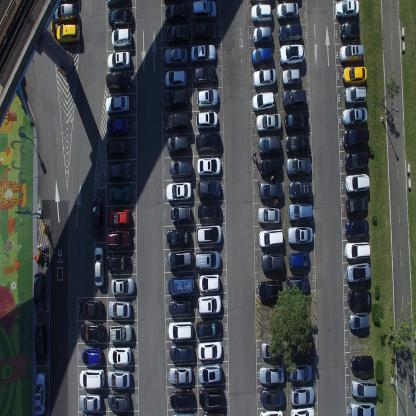car: (342, 126, 370, 148), (255, 111, 281, 134), (168, 274, 195, 296), (168, 248, 194, 270), (106, 229, 132, 251), (34, 371, 47, 415), (344, 172, 370, 194), (105, 71, 132, 92), (165, 111, 189, 134), (197, 293, 222, 315), (169, 342, 194, 364), (198, 364, 223, 386), (198, 387, 223, 409), (106, 160, 131, 182), (55, 23, 80, 45), (342, 64, 367, 86), (346, 261, 371, 283), (282, 88, 307, 110), (196, 179, 222, 200), (190, 43, 216, 64), (195, 131, 221, 152), (279, 44, 305, 65), (285, 156, 311, 177), (288, 338, 315, 358), (79, 322, 106, 342), (341, 106, 368, 126), (344, 240, 371, 260), (260, 252, 284, 274), (34, 321, 46, 365), (164, 1, 188, 23), (192, 20, 216, 42), (164, 88, 188, 110), (290, 384, 314, 406), (251, 90, 275, 112), (168, 320, 193, 341), (198, 340, 223, 361), (339, 43, 364, 64), (284, 112, 309, 133), (257, 280, 283, 300), (197, 224, 223, 244), (110, 276, 136, 296), (287, 226, 313, 246), (79, 368, 105, 388), (166, 180, 192, 200), (258, 365, 284, 385), (259, 386, 285, 406), (91, 195, 103, 238), (194, 250, 221, 269), (286, 276, 309, 298), (253, 66, 276, 88), (250, 1, 273, 23), (167, 227, 191, 248), (34, 272, 46, 314), (259, 182, 283, 203), (106, 94, 130, 115), (53, 1, 77, 22), (344, 150, 368, 171), (345, 194, 369, 215), (258, 135, 282, 156), (285, 134, 309, 155), (288, 179, 312, 200), (196, 318, 221, 338), (108, 324, 133, 344), (107, 298, 132, 318), (107, 368, 132, 388), (108, 6, 133, 26), (196, 156, 221, 176), (344, 218, 369, 238), (351, 379, 377, 398), (258, 228, 284, 247), (196, 87, 219, 108), (168, 366, 192, 386), (78, 392, 102, 412), (192, 0, 216, 20), (166, 24, 190, 44), (164, 46, 188, 66), (170, 158, 194, 178), (278, 22, 302, 42), (170, 388, 194, 408), (288, 202, 313, 221), (107, 346, 132, 365), (111, 26, 132, 48), (170, 203, 192, 224), (107, 390, 130, 410), (105, 138, 128, 158), (107, 50, 130, 70), (348, 288, 371, 308), (168, 298, 192, 317), (350, 355, 374, 374), (108, 209, 132, 228), (335, 0, 359, 19), (258, 157, 282, 176), (197, 203, 222, 221), (288, 250, 310, 270), (290, 362, 312, 382), (251, 46, 273, 66), (340, 20, 360, 42), (79, 299, 102, 318), (106, 116, 129, 135), (195, 110, 218, 129), (276, 1, 299, 20), (108, 185, 132, 203), (193, 66, 217, 84), (107, 254, 132, 271), (199, 272, 220, 292), (165, 68, 186, 88), (167, 135, 189, 154), (348, 311, 370, 330), (344, 86, 366, 105), (94, 246, 104, 287), (349, 400, 376, 415), (252, 24, 272, 44), (260, 341, 282, 359), (258, 206, 280, 224), (82, 346, 103, 364), (282, 68, 300, 86), (290, 408, 314, 415), (259, 409, 284, 415), (201, 410, 225, 415), (172, 411, 194, 415)
